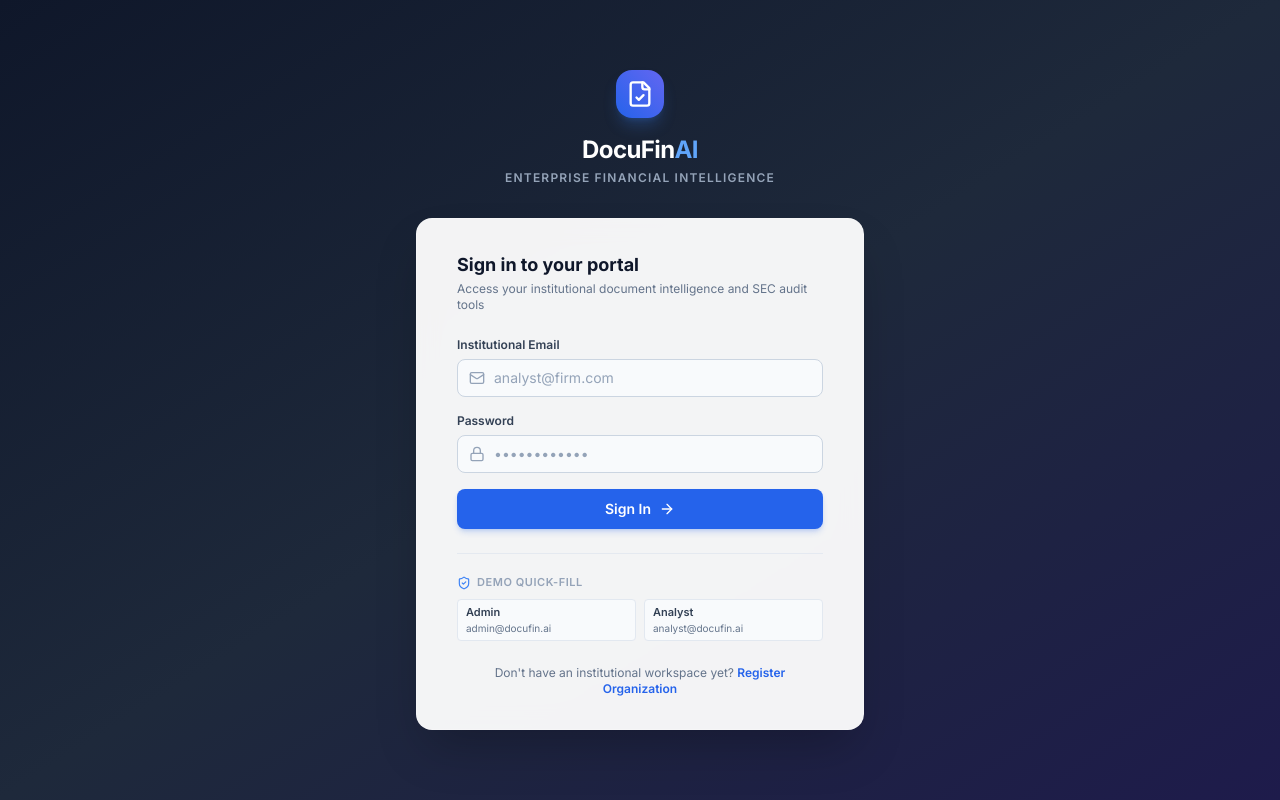
LoginPage › populates fields on quick-fill demo click
Click the button "Admin admin@docufin.ai" at (546, 620), box [457, 599, 636, 641]
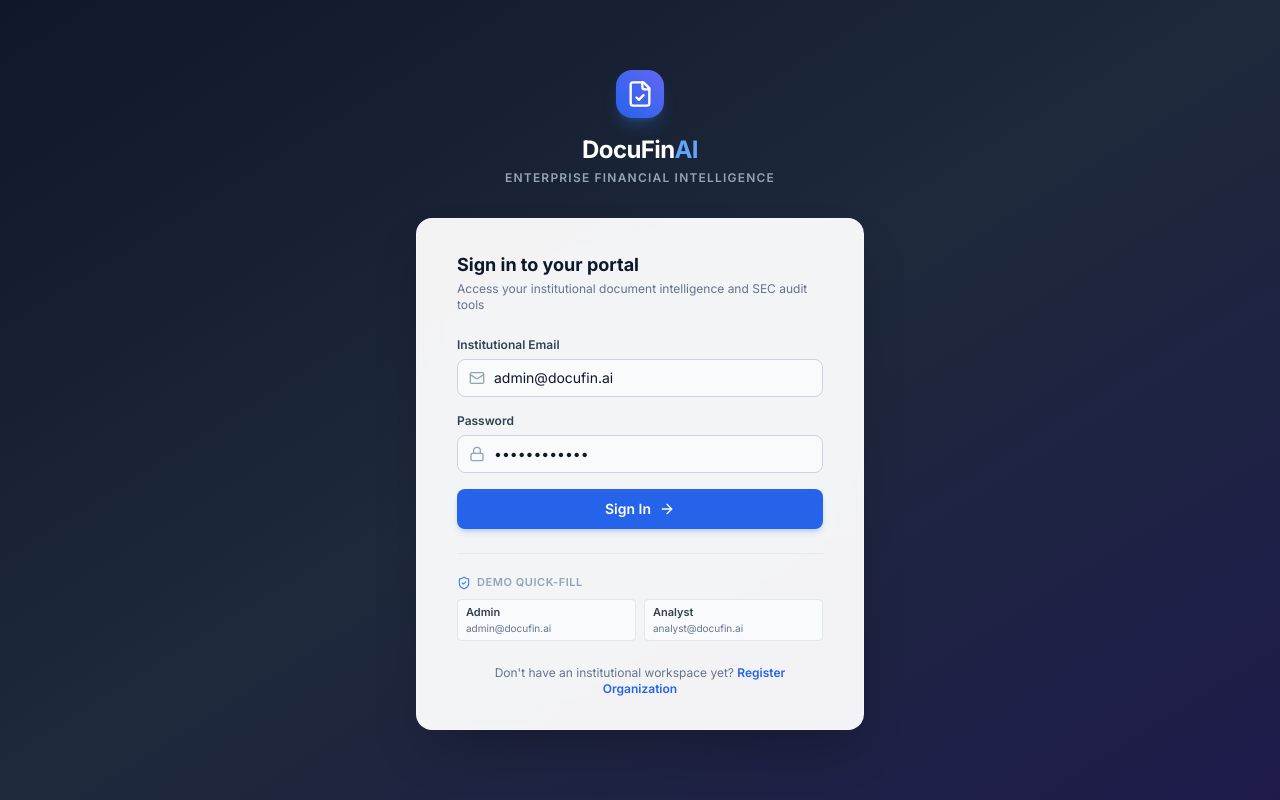
Now the field showing "admin@docufin.ai" is shown, box [457, 359, 823, 397]
